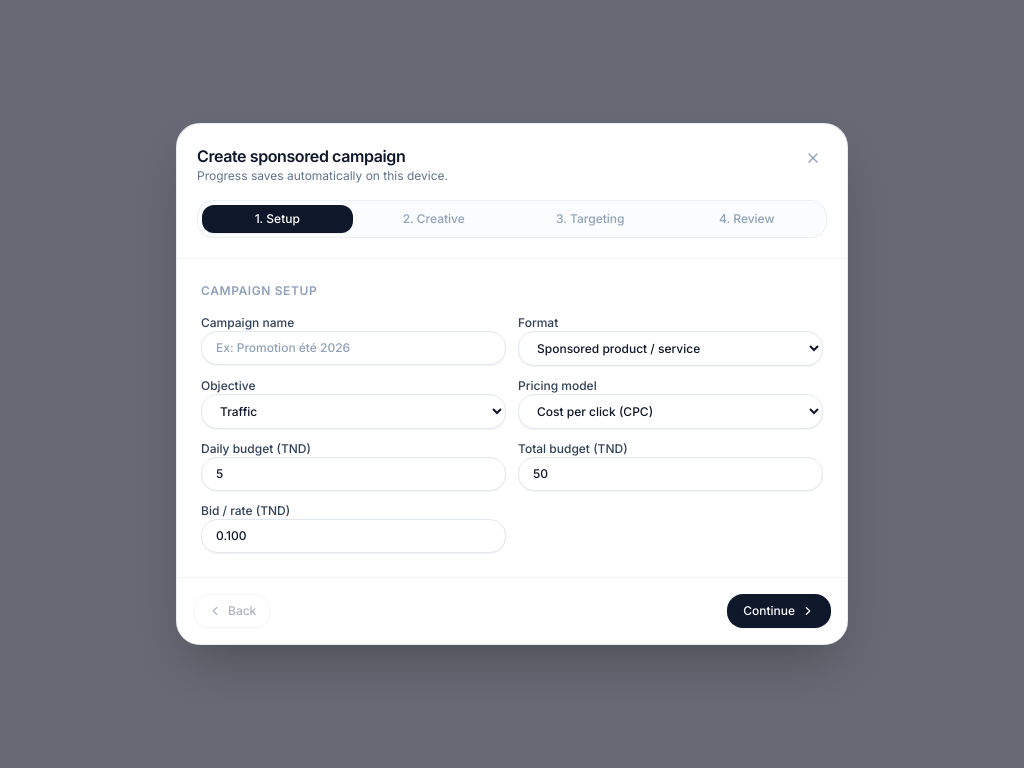
Test: AdsCampaignWizard › blocks setup progression until campaign name and budgets are valid
Click the button "Continue": (779, 611) [727,594,831,628]
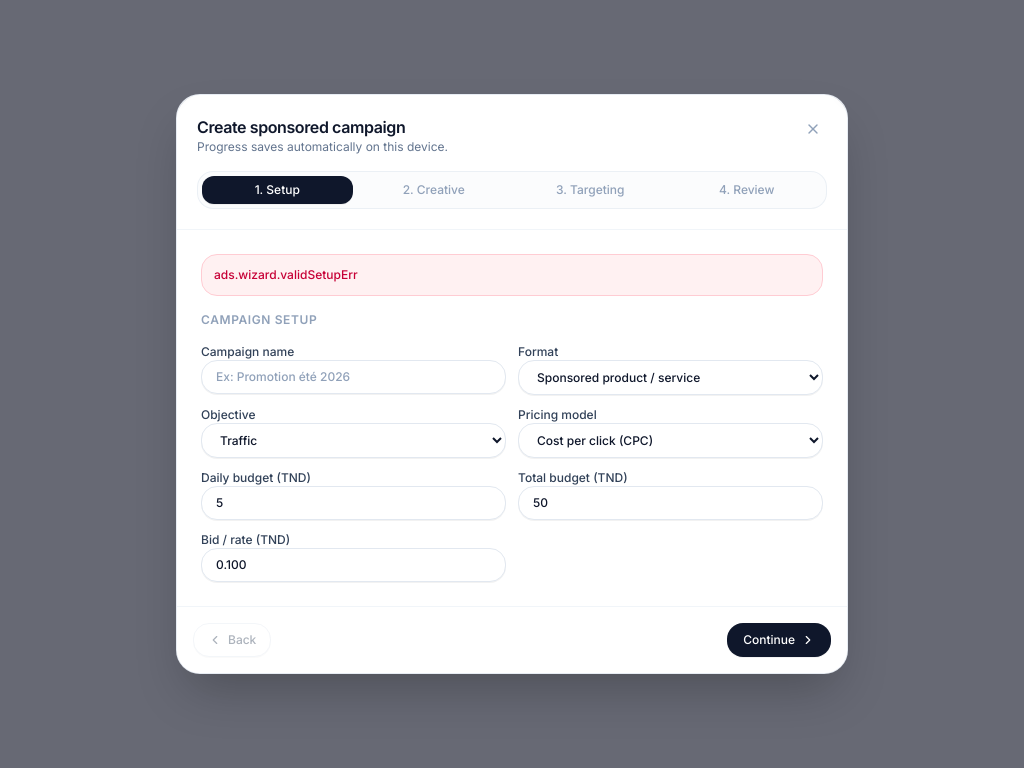
Expected: the heading "Campaign setup" is shown, [201,312,317,327]
Expected: the message reads "ads.wizard.validSetupErr", [214,267,358,282]
